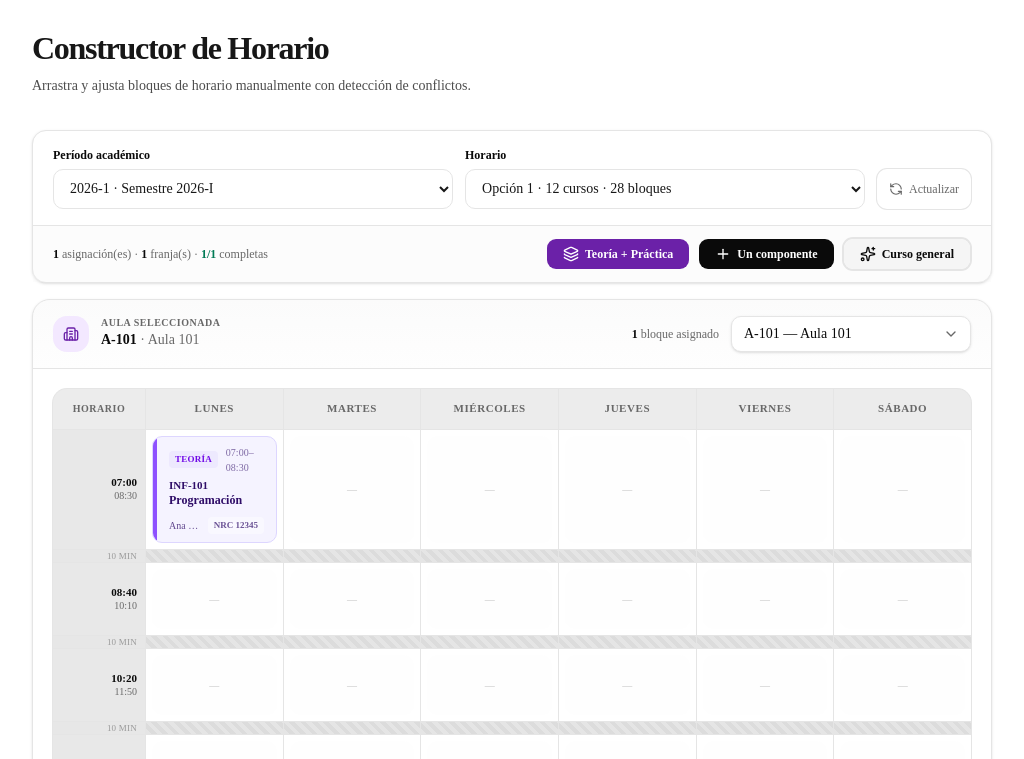
Test case: ScheduleBuilderScreen › abre el diálogo para agregar un curso general
Click the button "Curso general".
click(907, 254)  # box [843, 238, 971, 270]
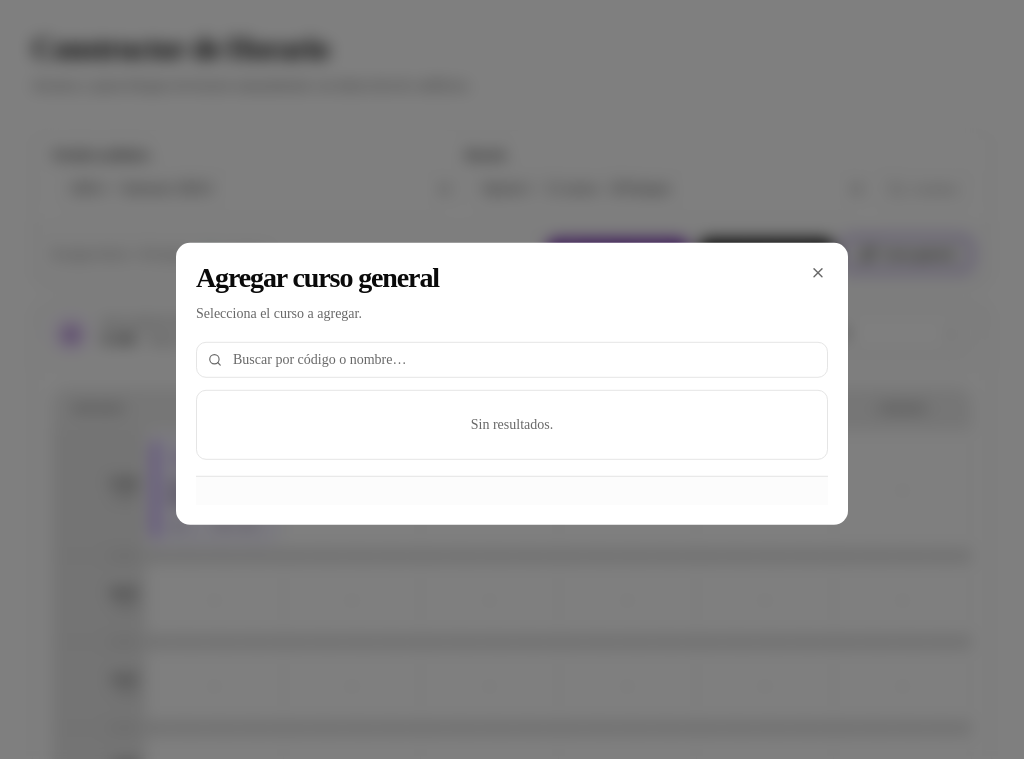
Expected: the heading "Agregar curso general" is shown, [196, 263, 439, 292]
